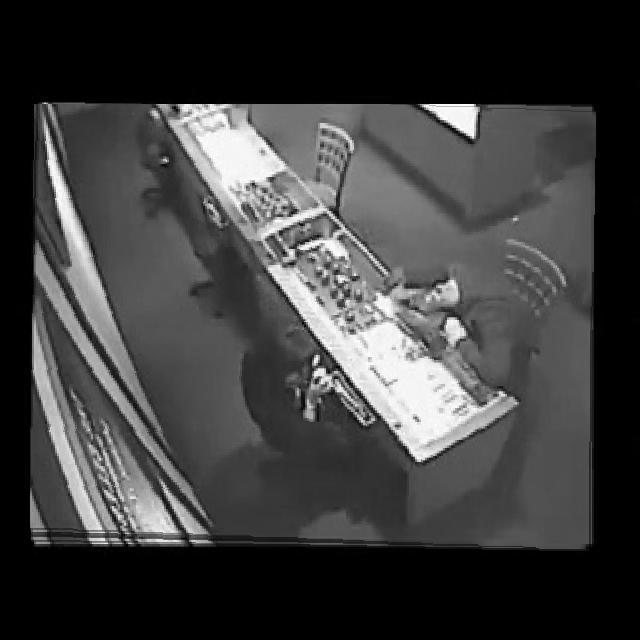normal: (30, 104, 594, 549)
